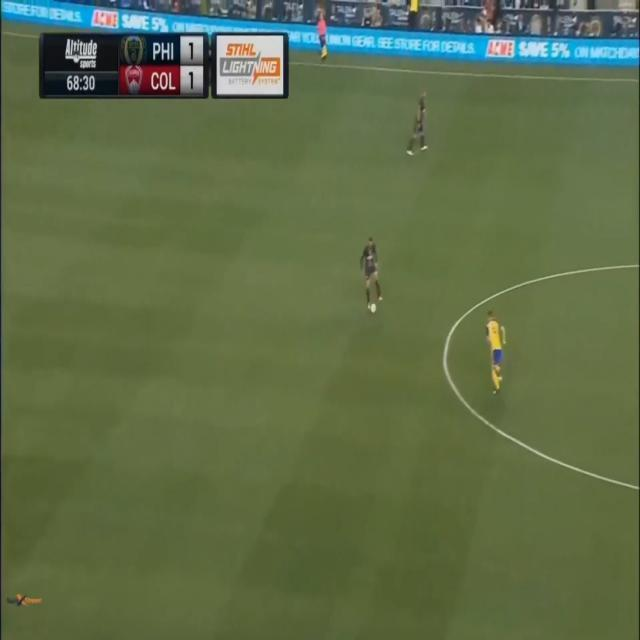ball: (371, 300, 376, 317)
player: (484, 305, 508, 395), (360, 232, 383, 304), (408, 91, 429, 159)
